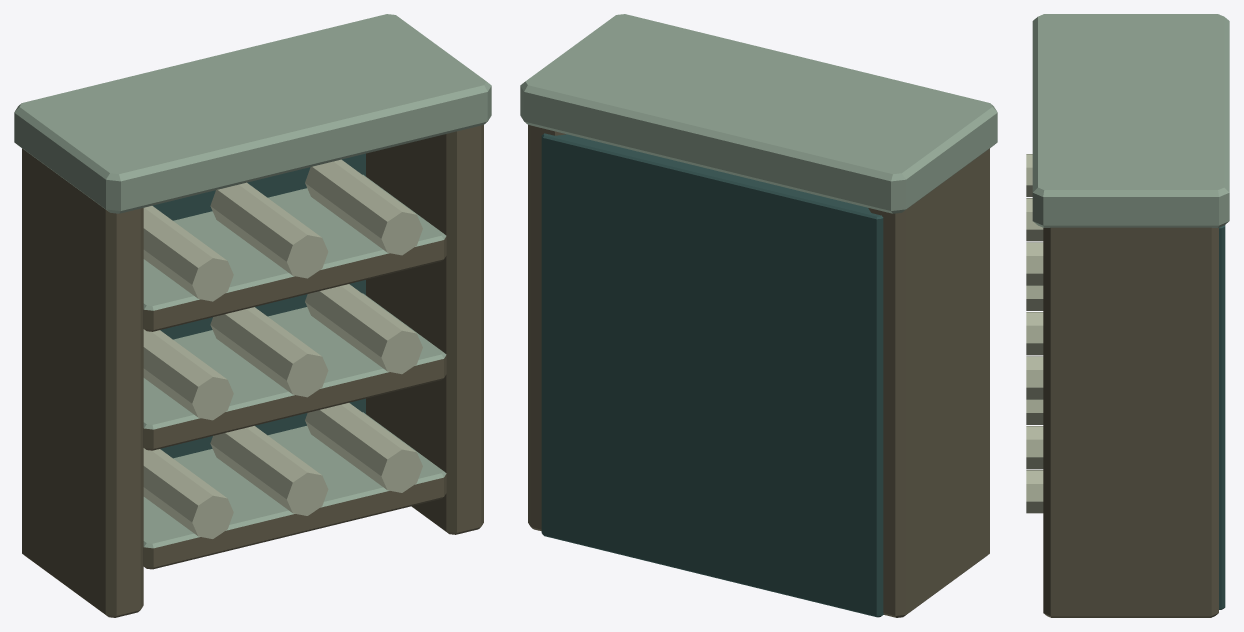
The model's file is scroll-rack.glb.
3 renders of one model, left to right at view 1: azimuth 30°, elevation 25°; view 2: azimuth 150°, elevation 25°; view 3: azimuth 270°, elevation 25°, orthographic. The views are drawn at different scales.
Visible parts, largest first — view 1: scroll-rack__body; view 2: scroll-rack__body; view 3: scroll-rack__body.
Part boxes in pixels (left/top/right/bottom): scroll-rack__body: left=14, top=14, right=491, bottom=617; scroll-rack__body: left=520, top=14, right=997, bottom=617; scroll-rack__body: left=1026, top=14, right=1229, bottom=617.
Size of the model in its own units: 1.02 by 1.13 by 0.485.
